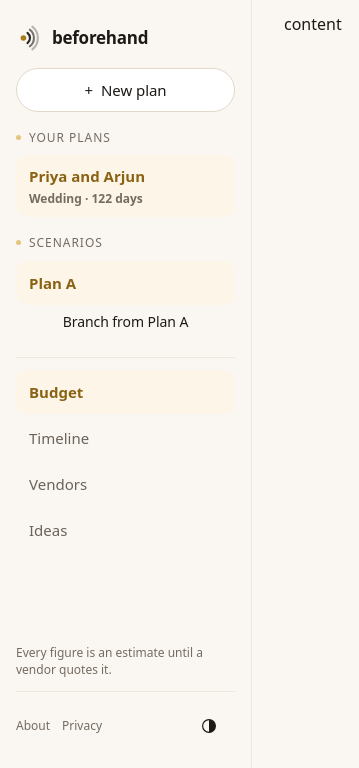
Test: scenarios in the sidebar › branches, switches and deletes
Click the button "Branch from Plan A": coordinates (126, 323) [16,305,235,341]
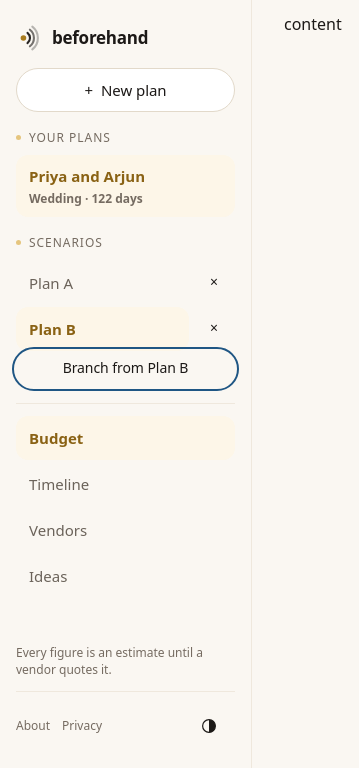
Click the button "Plan A": coordinates (102, 283) [16,261,189,305]
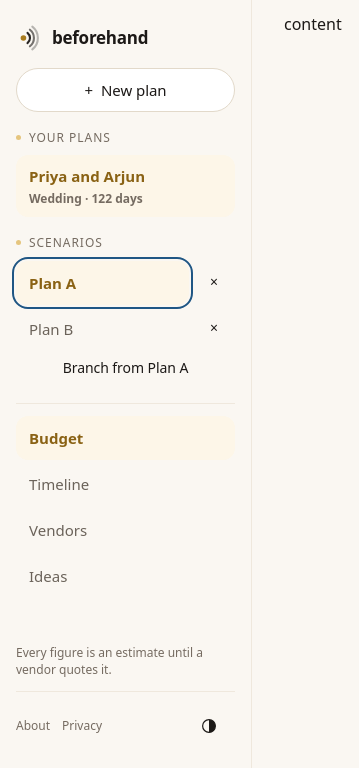
Check: the button "Plan A" is marked as current, box [16,261,189,305]
Click the button named "Delete Plan B": coordinates (214, 329) [193,311,235,347]
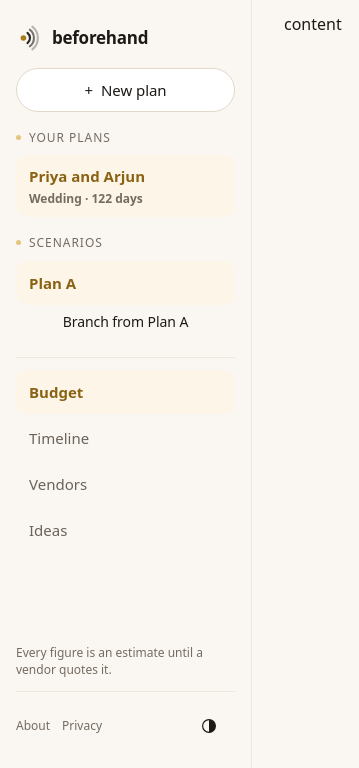
Check: the button "Plan B" is gone
